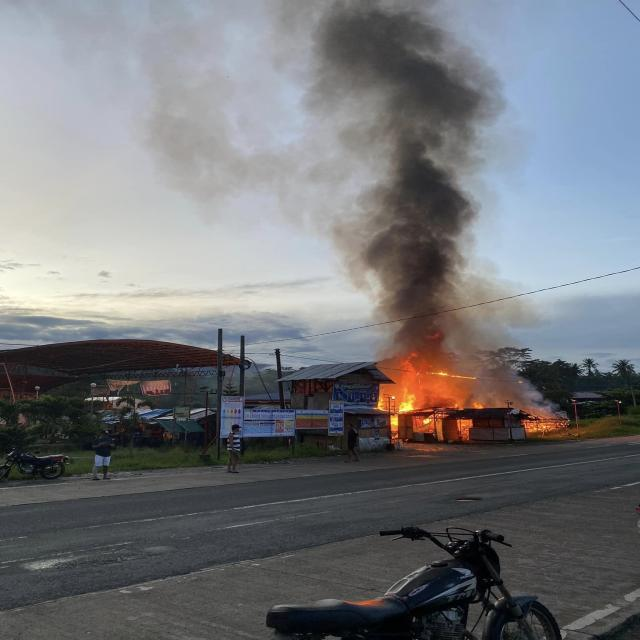Fire: (368, 353, 582, 439)
Smoke: (312, 3, 560, 370)
